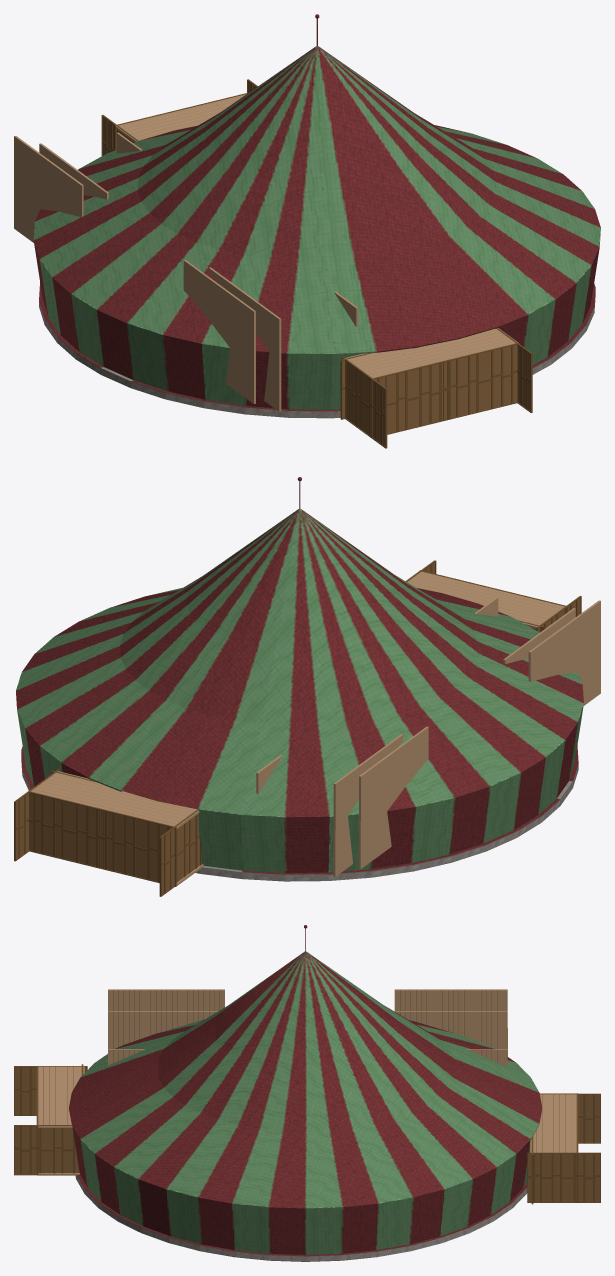
The picture shows the model from 3 angles, top to bottom: view 1: azimuth 30°, elevation 25°; view 2: azimuth 150°, elevation 25°; view 3: azimuth 270°, elevation 25°; orthographic projection. The views are drawn at different scales.
Parts seen in each view (by area): view 1: esenario, paredstatica.002, paredstatica.001, paredstatica; view 2: esenario, paredstatica.002, paredstatica.001, paredstatica; view 3: esenario, paredstatica.002, paredstatica.001, paredstatica.
Part boxes in pixels (<box>): esenario: <box>33,14,600,448</box>; paredstatica.002: <box>14,136,255,403</box>; paredstatica.001: <box>39,143,281,411</box>; paredstatica: <box>116,132,358,326</box>; esenario: <box>14,477,583,896</box>; paredstatica.002: <box>358,600,600,869</box>; paredstatica.001: <box>333,608,575,876</box>; paredstatica: <box>256,597,498,793</box>; esenario: <box>14,925,600,1261</box>; paredstatica.002: <box>108,989,507,1049</box>; paredstatica.001: <box>108,1011,507,1056</box>; paredstatica: <box>108,1049,507,1066</box>.
Size of the model in its own units: 29.97 by 17.99 by 37.14.
Materials: 12 (1 with a texture image).
